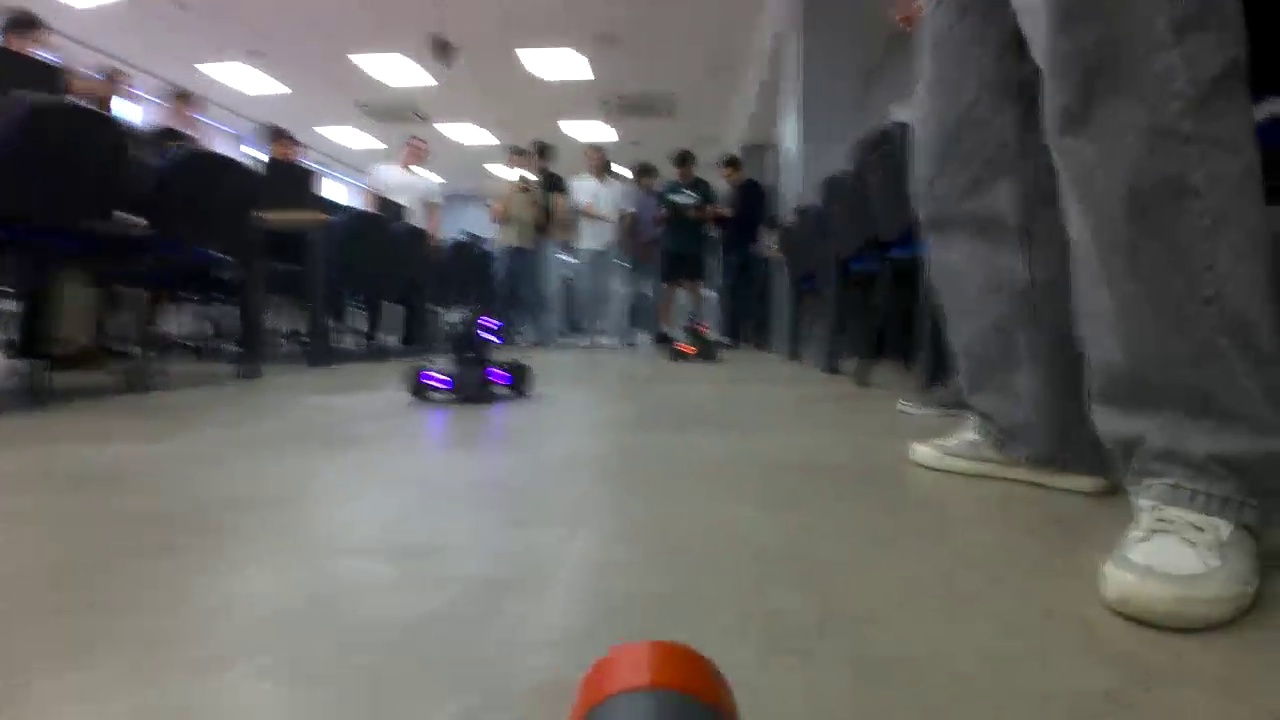robot: (406, 302, 534, 405), (666, 316, 724, 362)
